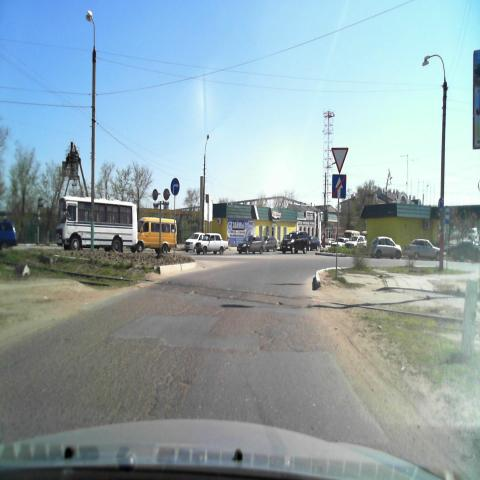4_1_2: (170, 177, 179, 196)
